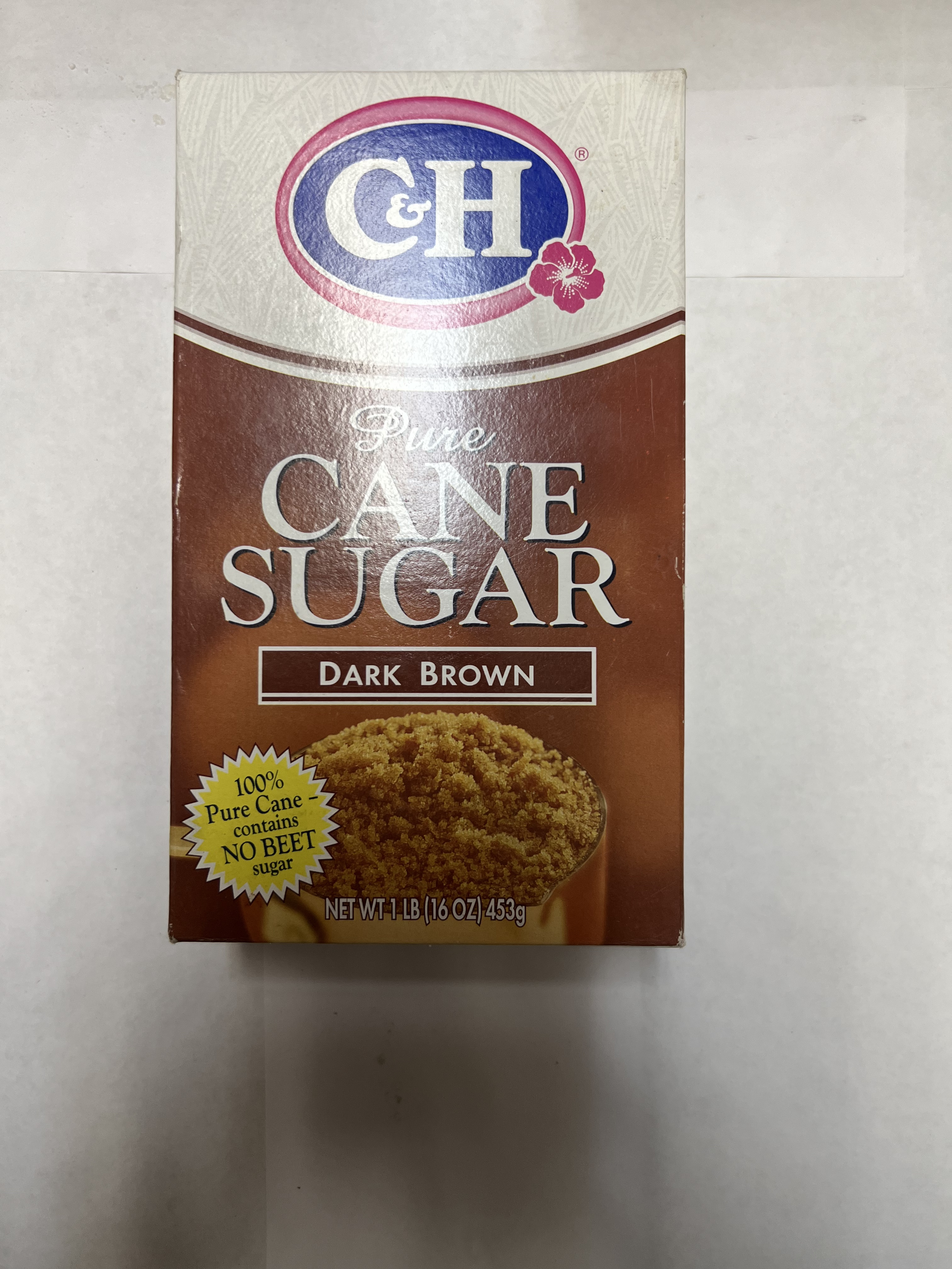packaged: (164, 63, 692, 953)
